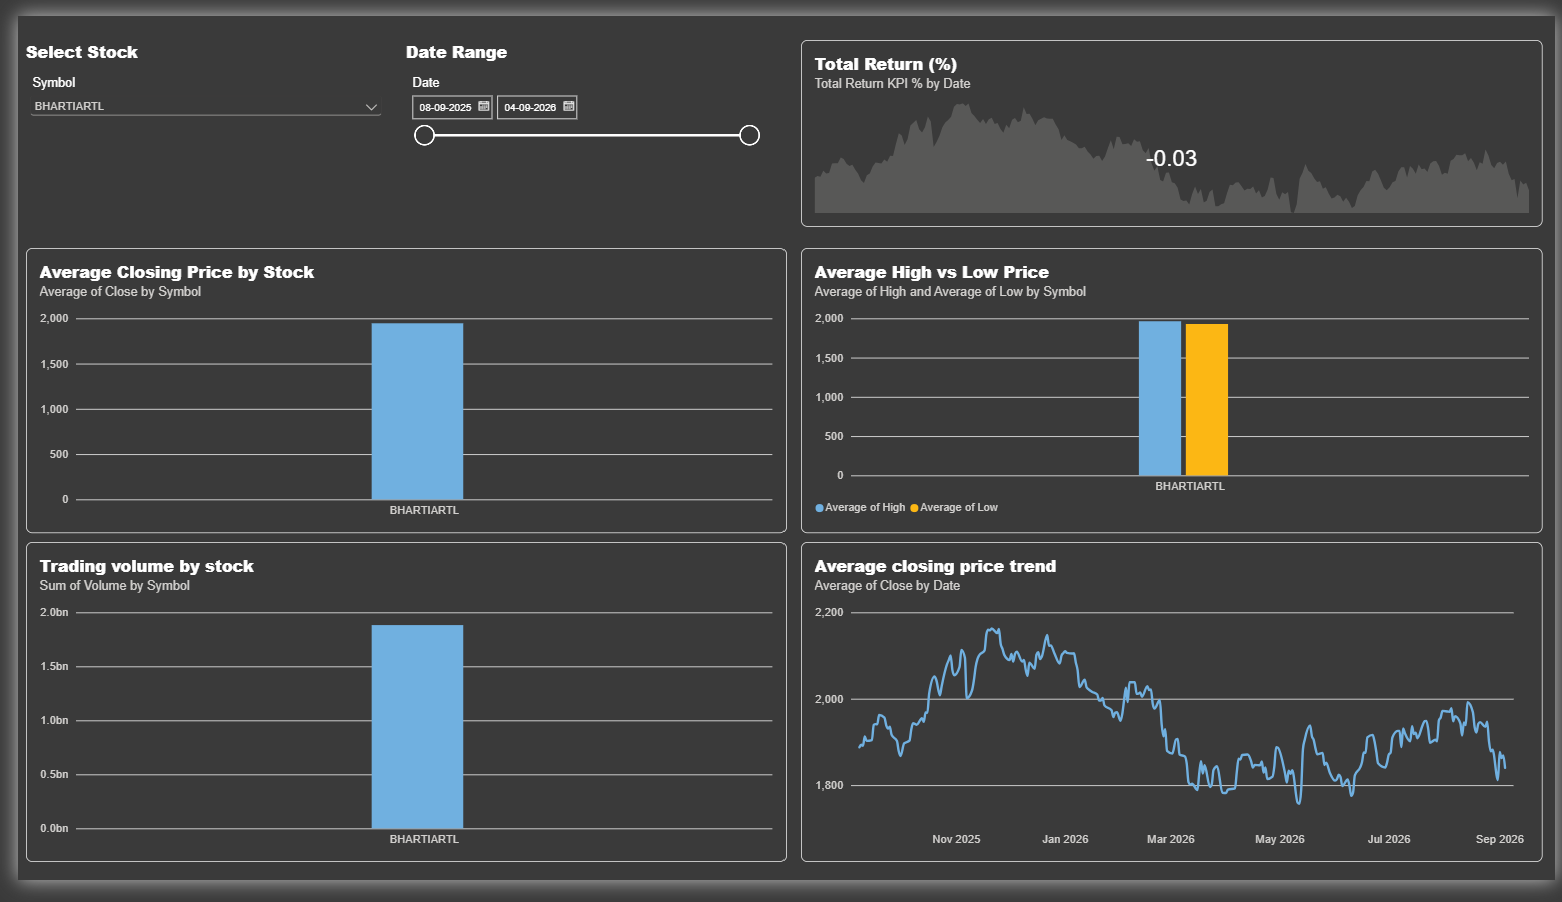

This screenshot's page, from the dashboard's own definition file:
{"tool":"powerbi","page":{"name":"Stock Performance Dashboard","canvas":[1920,1080],"ordinal":3},"visuals":[{"type":"clusteredColumnChart","title":"Average Closing Price by Stock","fields":{"Category":["Stocks_Data.Symbol  "],"Y":["Avg(Stocks_Data.Close)"]},"box":[10.4,289.6,950,356.2],"z":0},{"type":"clusteredColumnChart","title":"Trading volume by stock","fields":{"Category":["Stocks_Data.Symbol  "],"Y":["Sum(Stocks_Data.Volume)"]},"box":[10.4,658.3,950,400],"z":1000},{"type":"lineChart","title":"Average closing price trend","fields":{"Category":["Stocks_Data.Date  "],"Y":["Avg(Stocks_Data.Close)"]},"box":[977.1,658.3,927.1,400],"z":2000},{"type":"kpi","title":"Total Return (%)","fields":{"Indicator":["Stocks_Data.Total Return KPI %"],"TrendLine":["Stocks_Data.Date  "]},"box":[977.1,29.2,927.1,233.3],"z":3000},{"type":"clusteredColumnChart","title":"Average High vs Low Price","fields":{"Category":["Stocks_Data.Symbol  "],"Y":["Avg(Stocks_Data.High)","Avg(Stocks_Data.Low)"]},"box":[977.1,289.6,927.1,356.2],"z":4000},{"type":"slicer","title":"Select Stock","fields":{"Values":["Stocks_Data.Symbol  "]},"box":[10.4,29.2,450,237.5],"z":5000},{"type":"slicer","title":"Date Range","fields":{"Values":["Stocks_Data.Date  "]},"box":[485.4,29.2,445.8,235.4],"z":6000}]}

Visuals, with their boxes in screenshot pixels (x1, y1, x2, y2), scaled from the page's 1920x1080 canvas onto the 1562x902 screenshot:
"Average Closing Price by Stock" clusteredColumnChart: {"left": 8, "top": 242, "right": 781, "bottom": 539}
"Trading volume by stock" clusteredColumnChart: {"left": 8, "top": 550, "right": 781, "bottom": 884}
"Average closing price trend" lineChart: {"left": 795, "top": 550, "right": 1549, "bottom": 884}
"Total Return (%)" kpi: {"left": 795, "top": 24, "right": 1549, "bottom": 219}
"Average High vs Low Price" clusteredColumnChart: {"left": 795, "top": 242, "right": 1549, "bottom": 539}
"Select Stock" slicer: {"left": 8, "top": 24, "right": 375, "bottom": 223}
"Date Range" slicer: {"left": 395, "top": 24, "right": 758, "bottom": 221}
